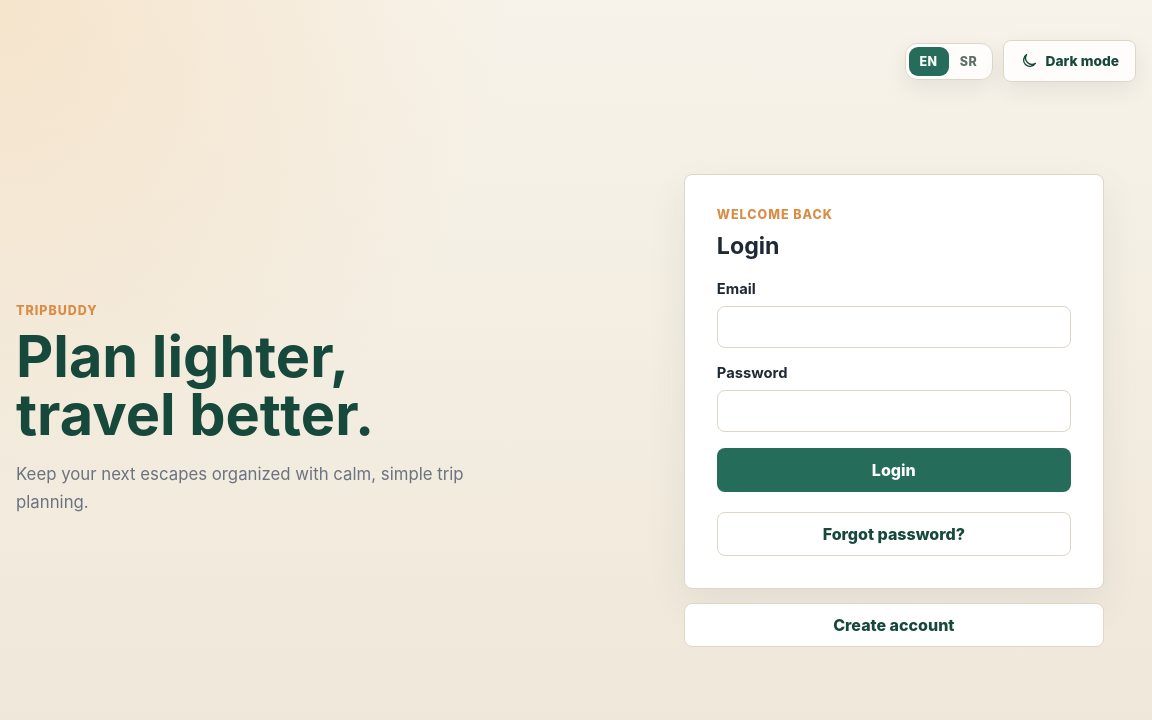
Test: TripBuddy frontend › switches to Serbian and saves the language preference
The width and height of the screenshot is (1152, 720).
Click the button with aria-label "Switch language to Serbian".
click(968, 61)  # box [948, 46, 988, 76]
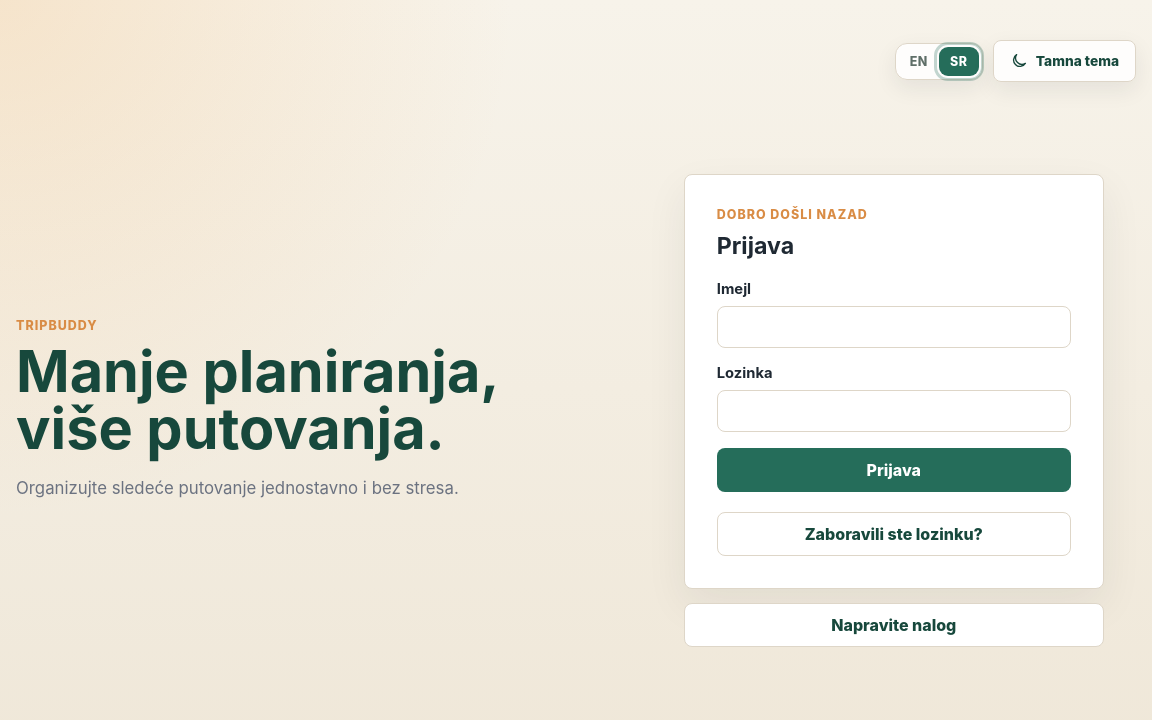
Expected: the heading "Prijava" is shown, [717, 232, 794, 260]
